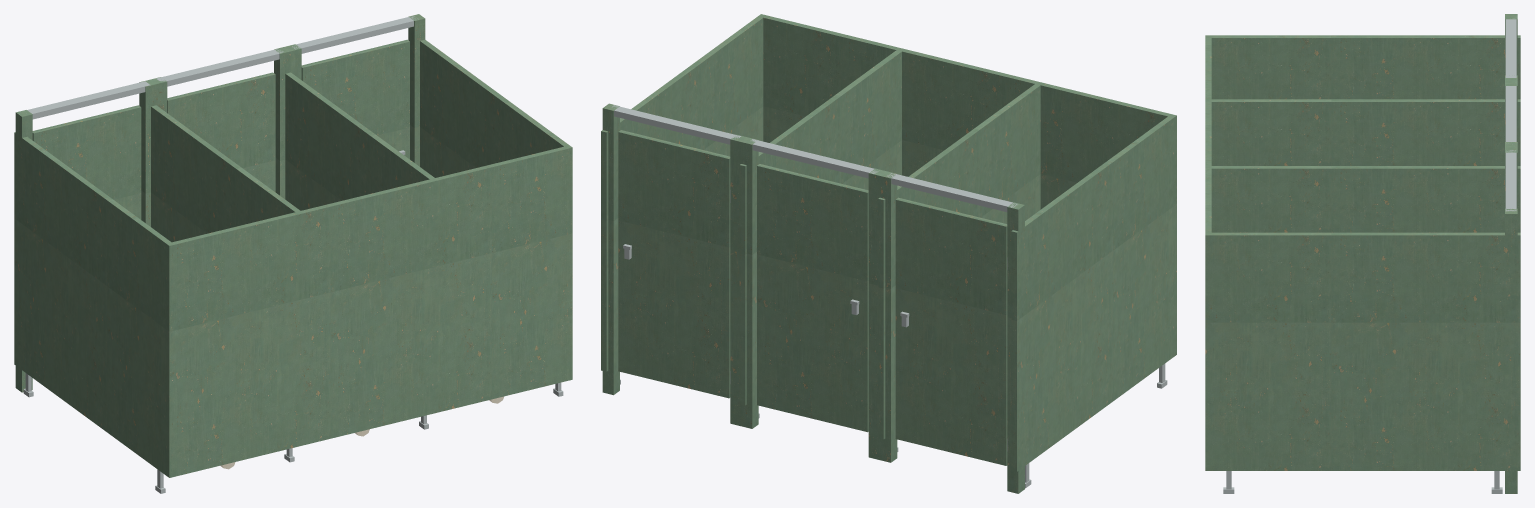
The model's file is bath-stall-row-3.gltf.
The picture shows the model from 3 angles, left to right: view 1: azimuth 30°, elevation 25°; view 2: azimuth 150°, elevation 25°; view 3: azimuth 270°, elevation 25°; orthographic projection. The views are drawn at different scales.
Visible parts, largest first — view 1: partition-paint, door-paint (×3), partition-metal, fittings-metal; view 2: partition-paint, door-paint (×3), partition-metal; view 3: partition-paint, partition-metal, fittings-metal.
Boxes of the visible parts, <box> form: partition-paint: <box>14,14,572,477</box>; door-paint (×3): <box>32,39,409,219</box>; partition-metal: <box>27,16,418,119</box>; fittings-metal: <box>23,373,563,493</box>; partition-paint: <box>601,14,1176,493</box>; door-paint (×3): <box>618,130,1007,465</box>; partition-metal: <box>612,105,1017,212</box>; partition-paint: <box>1205,14,1520,493</box>; partition-metal: <box>1505,18,1516,211</box>; fittings-metal: <box>1223,471,1502,493</box>.
Bounding box in the file's own units: 3 × 1.96 × 2.
5 materials, 2 textured.
